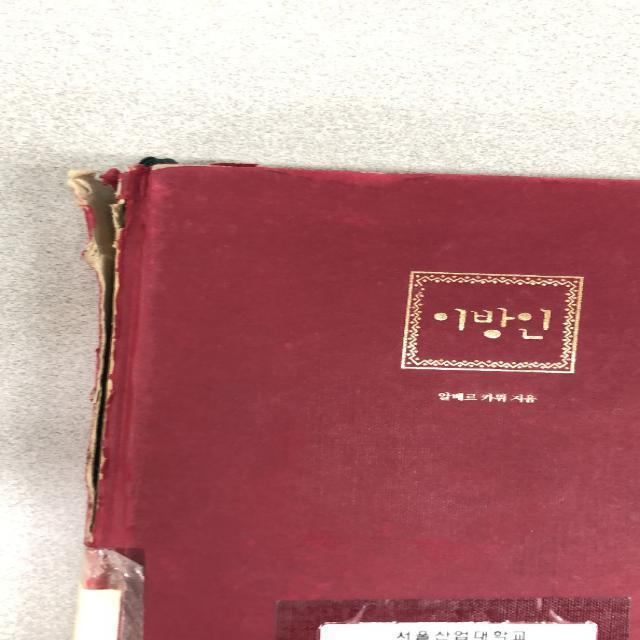Ripped: (51, 135, 265, 549)
Wornout: (267, 159, 639, 193)
